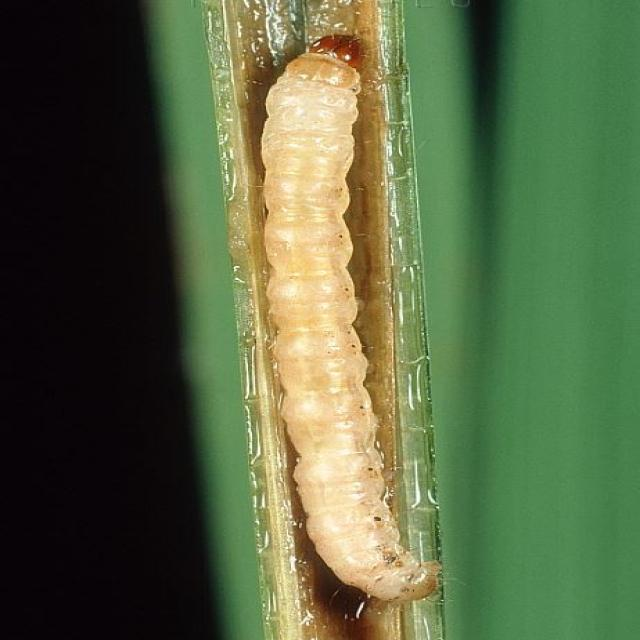ulat pada daun padi: (255, 31, 443, 606)
